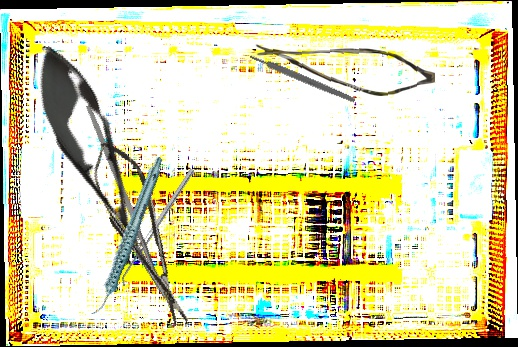Handpiece: (61, 155, 194, 319)
Micro Scissor: (18, 35, 170, 274), (83, 133, 199, 335), (254, 37, 436, 101)
Needle Holder: (49, 104, 191, 307)
Scalpel Handle: (249, 53, 356, 104)
Spatula Surgical: (117, 168, 199, 287)
